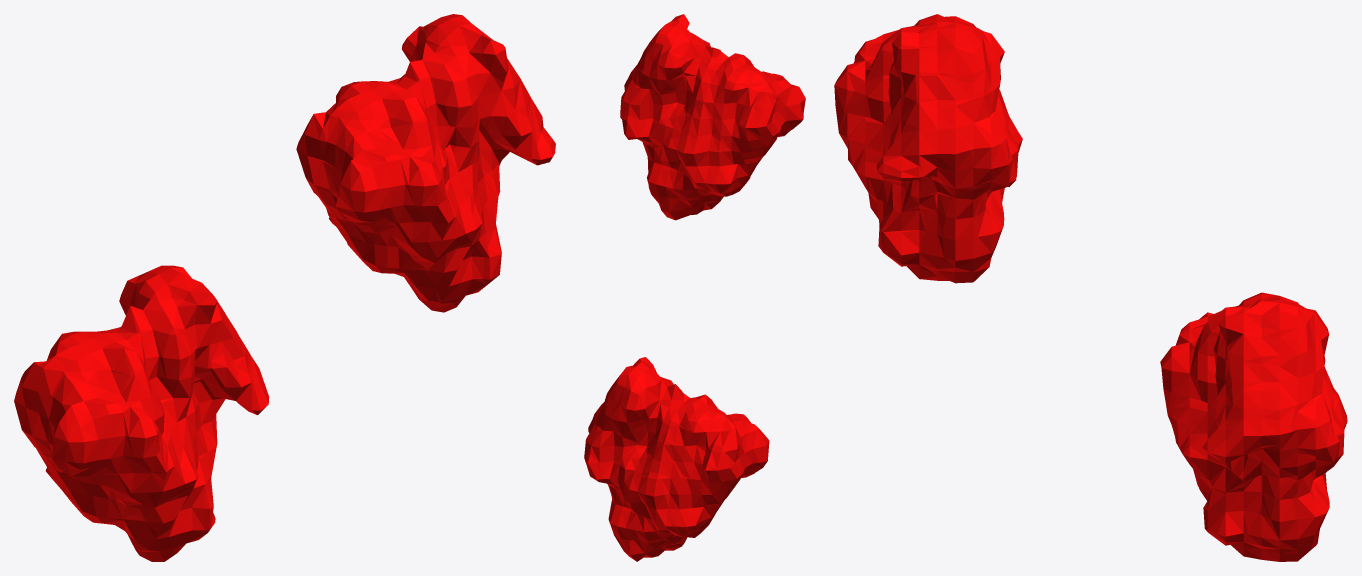
Rendered from cyoA_coarse.dae.
The picture shows the model from 3 angles, left to right: view 1: azimuth 30°, elevation 25°; view 2: azimuth 150°, elevation 25°; view 3: azimuth 270°, elevation 25°; orthographic projection. The views are drawn at different scales.
Visible parts, largest first — view 1: cyoA; view 2: cyoA; view 3: cyoA.
Boxes of the visible parts, box(x1,y1,x2,y2) form: cyoA: box(14, 14, 555, 561); cyoA: box(584, 14, 805, 561); cyoA: box(834, 14, 1347, 561).
Bounding box in the file's own units: 138 × 237 × 184.
